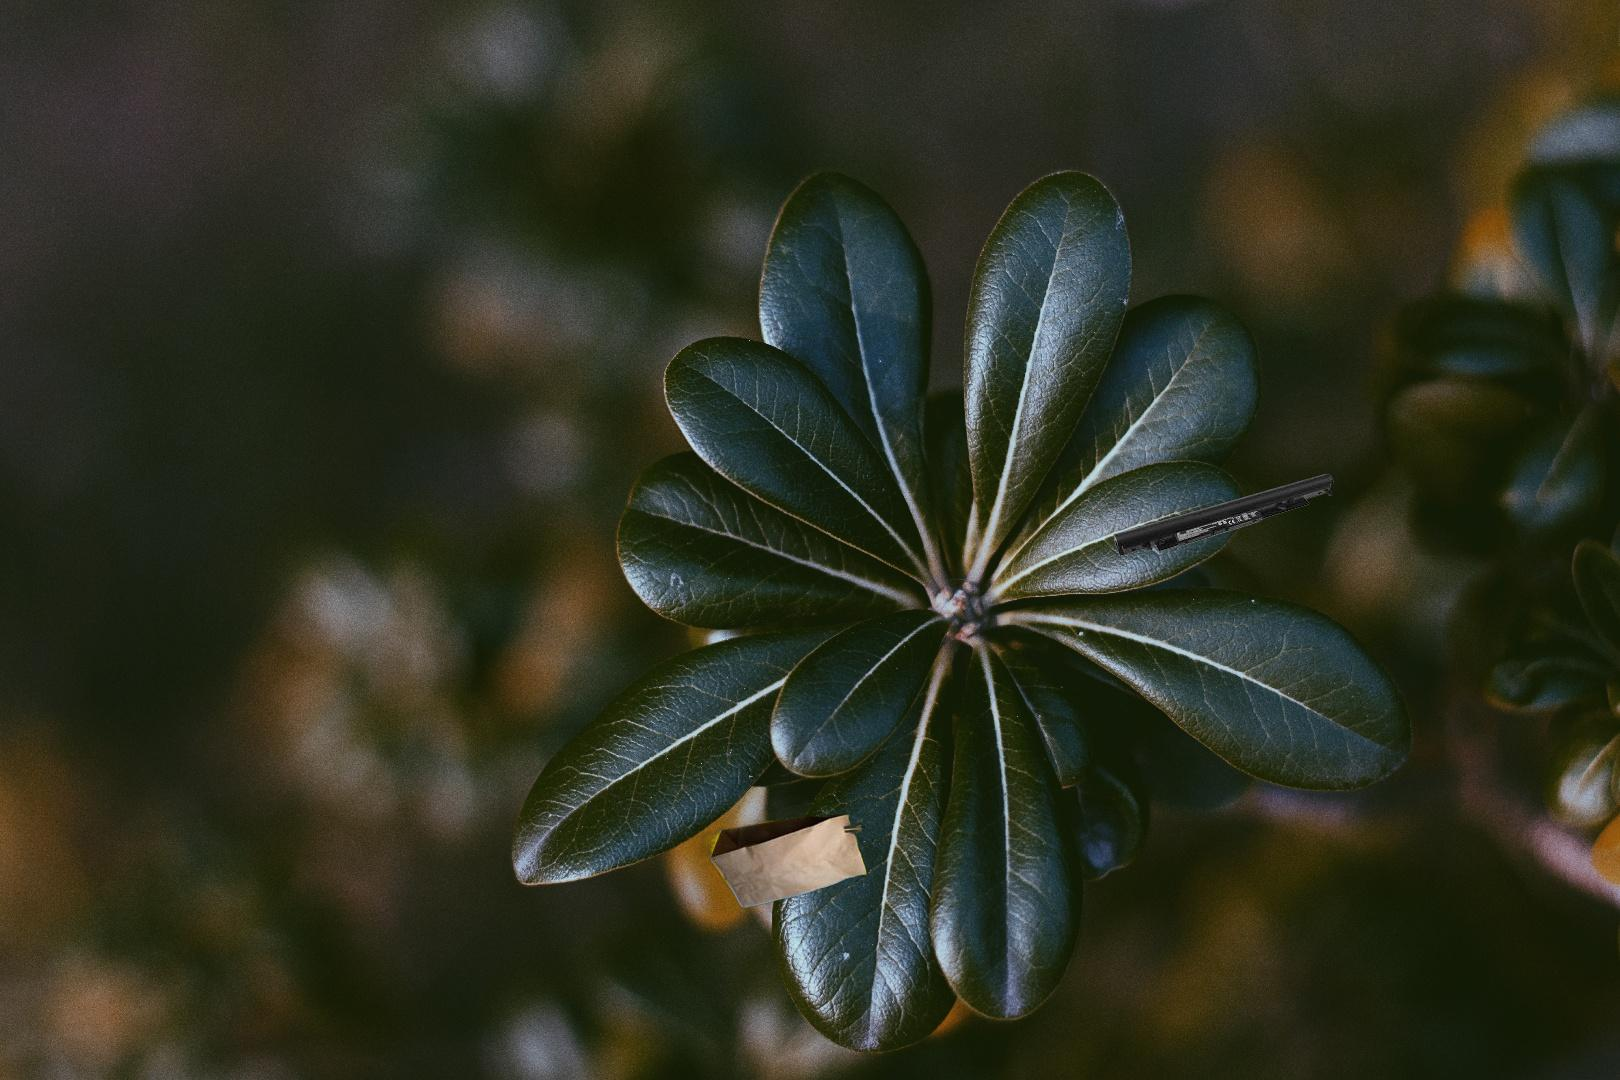battery: (1113, 471, 1337, 559)
paper-bag: (697, 810, 877, 928)
